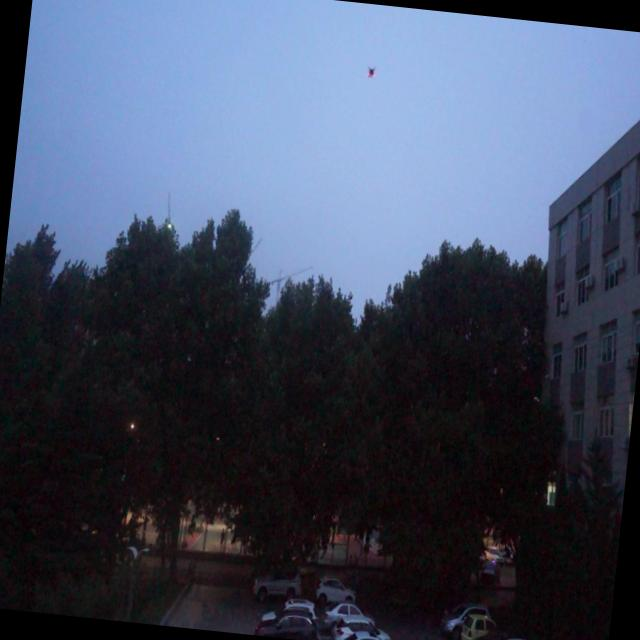drone: (366, 62, 379, 78)
